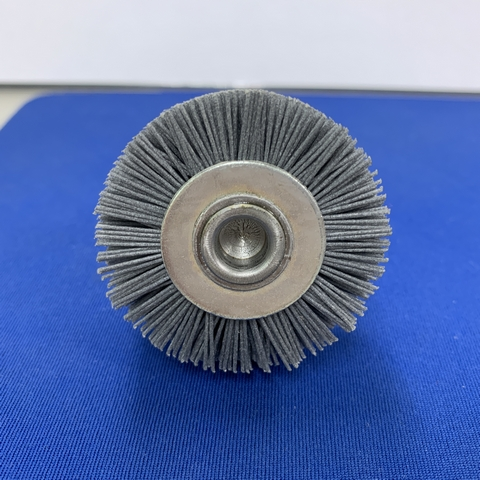Wheel Brush: (100, 83, 391, 377), (115, 91, 371, 360)
